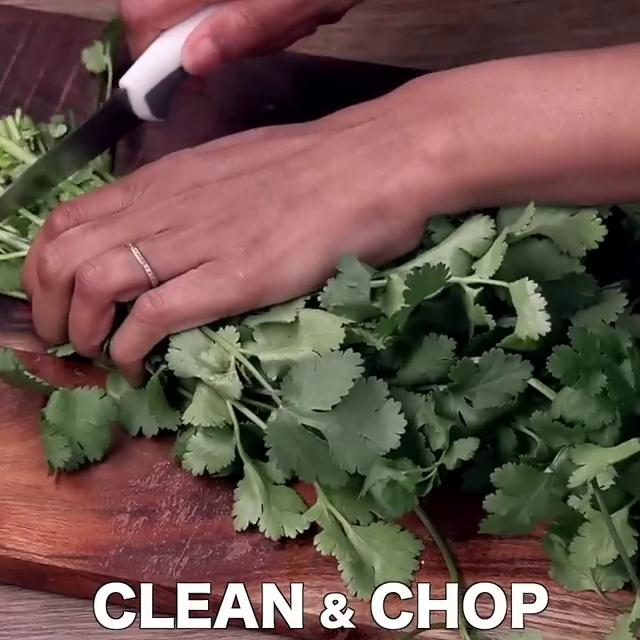cilantro: (305, 256, 640, 582)
